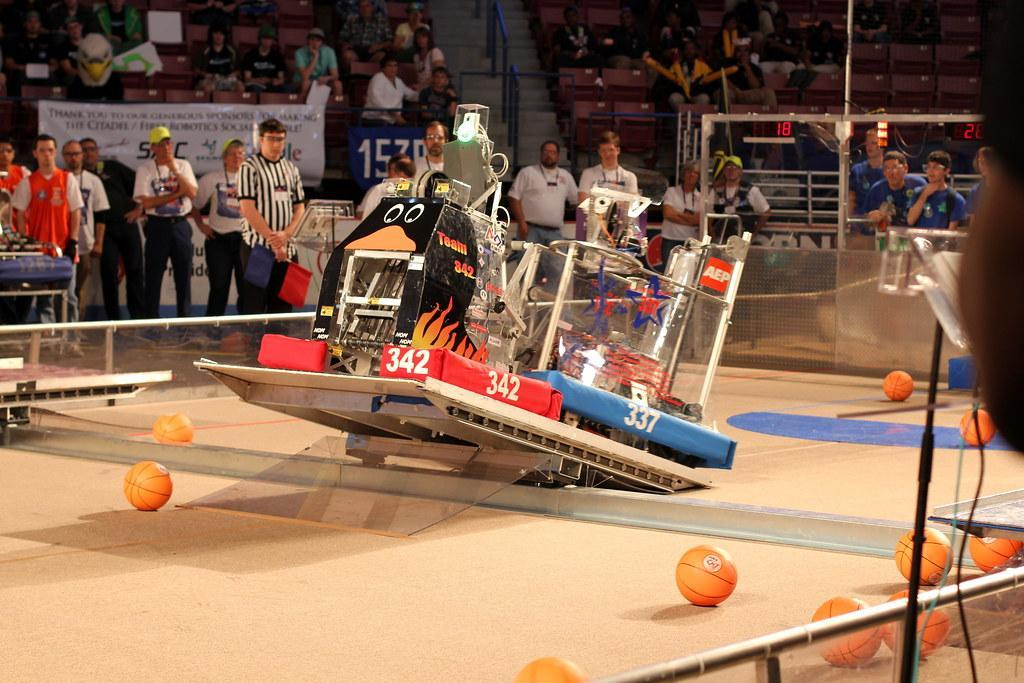robot: (250, 79, 567, 440), (520, 176, 753, 485)
